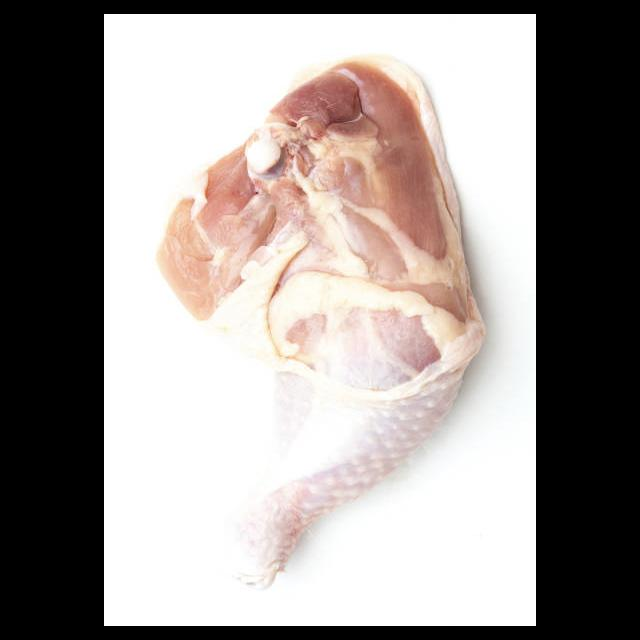chicken: (158, 55, 488, 588)
